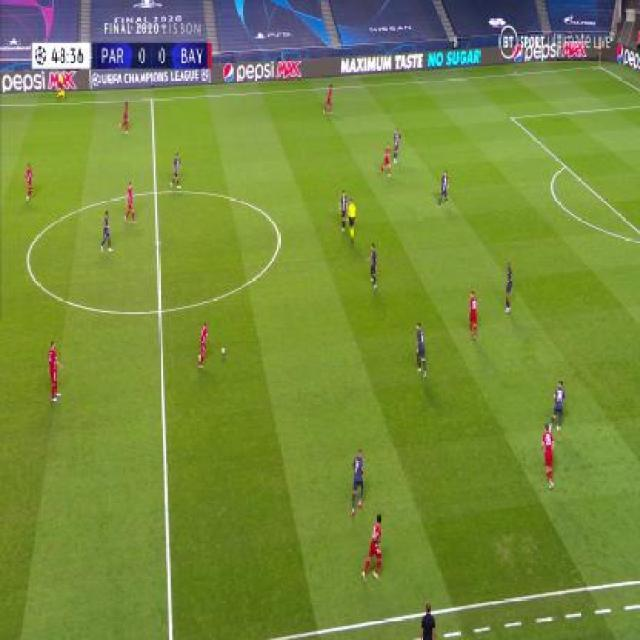ball: (221, 346, 226, 355)
player: (363, 514, 386, 582), (350, 449, 366, 517), (540, 422, 556, 490), (548, 379, 567, 433), (47, 340, 63, 403), (413, 321, 427, 377), (196, 321, 212, 369), (467, 289, 480, 343), (418, 601, 436, 640), (99, 210, 113, 253), (123, 182, 137, 224), (502, 261, 513, 314), (346, 196, 357, 244), (378, 143, 392, 179), (368, 243, 379, 288), (169, 152, 182, 189), (438, 170, 451, 207), (322, 83, 335, 116), (24, 162, 35, 201), (118, 101, 131, 134), (339, 189, 347, 235), (56, 72, 69, 100), (392, 128, 400, 165)
